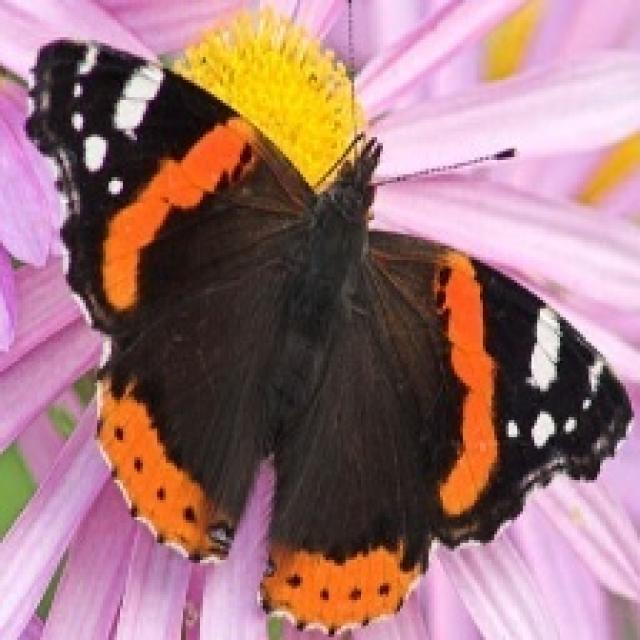butterfly: (27, 39, 630, 632)
